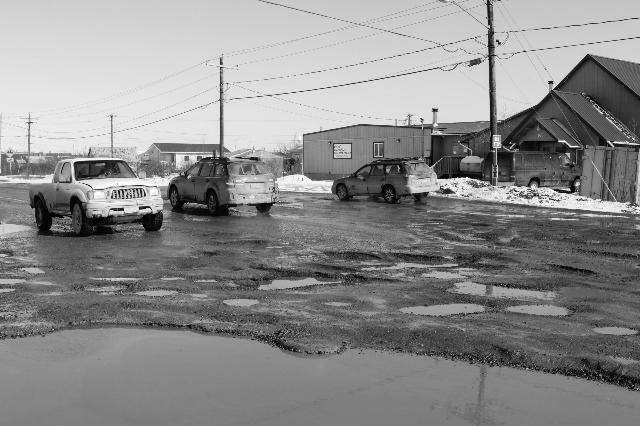Pothole: (0, 293, 640, 426), (320, 234, 480, 280), (548, 234, 640, 288), (237, 266, 365, 298), (490, 290, 576, 322), (392, 292, 490, 318)
